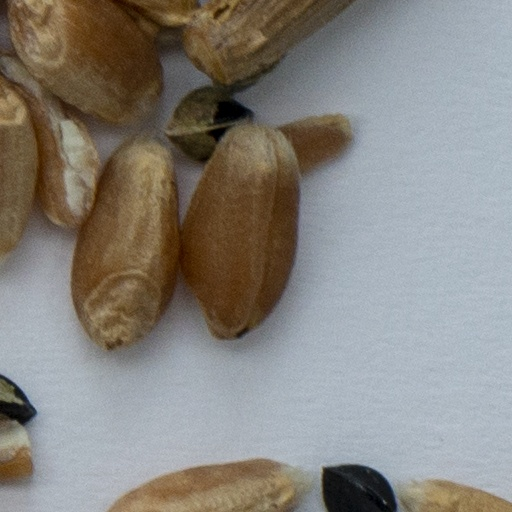Fallopia-Сonvolvulus-poly: (169, 83, 246, 156), (323, 465, 395, 511), (0, 376, 33, 421)
Wheat-grain-damaged-poly: (0, 421, 35, 481)
